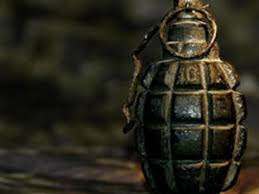e1: (125, 1, 248, 194)
